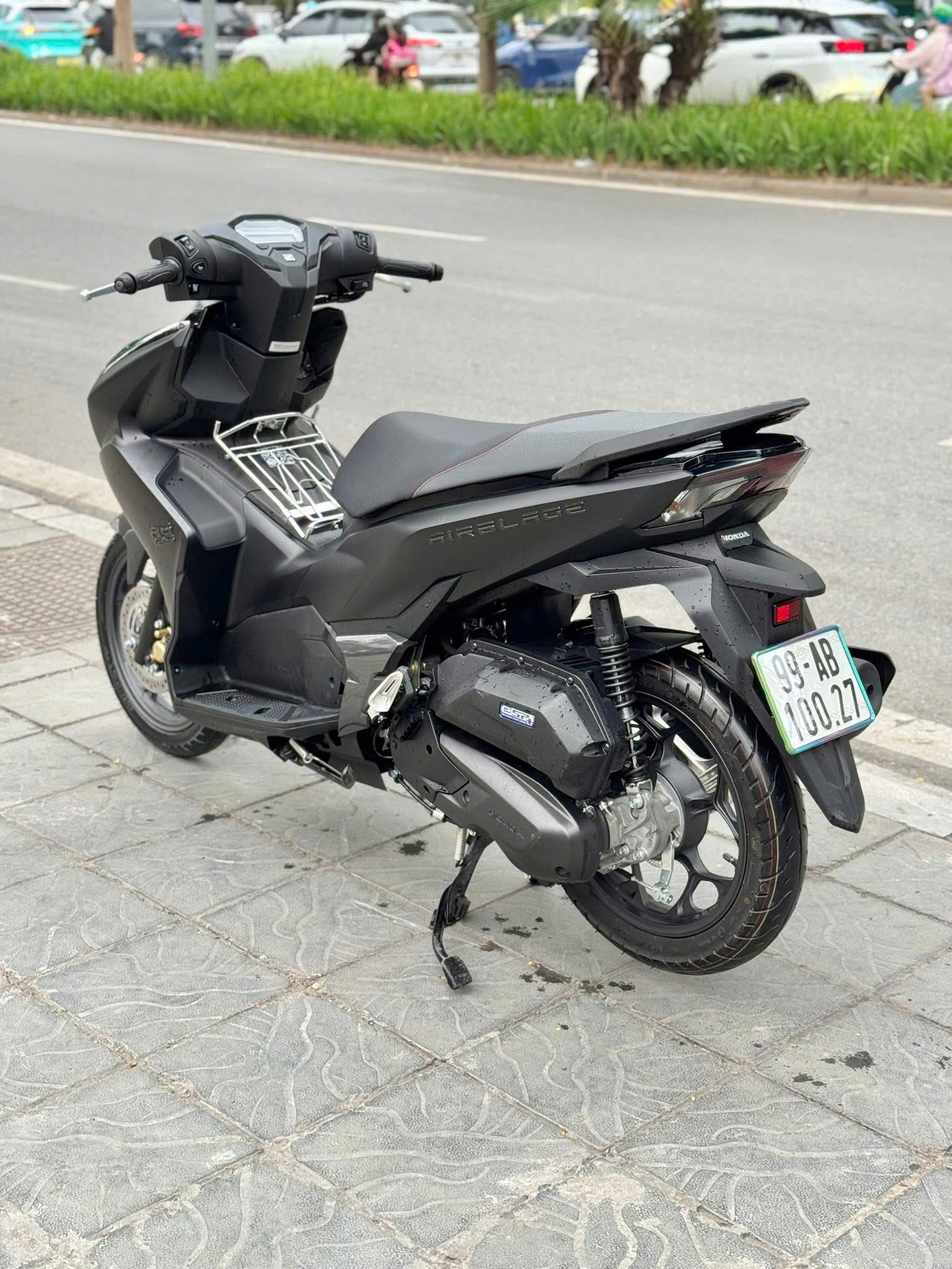Bien-so: (748, 619, 875, 761)
